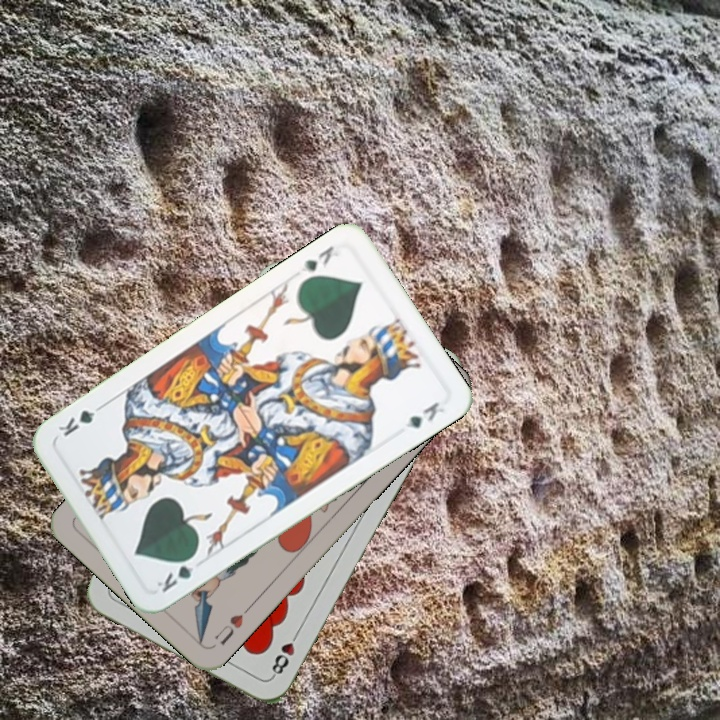GK: (152, 550, 200, 595), (298, 241, 342, 276)
H8: (267, 626, 302, 680)
HU: (210, 602, 254, 648)
